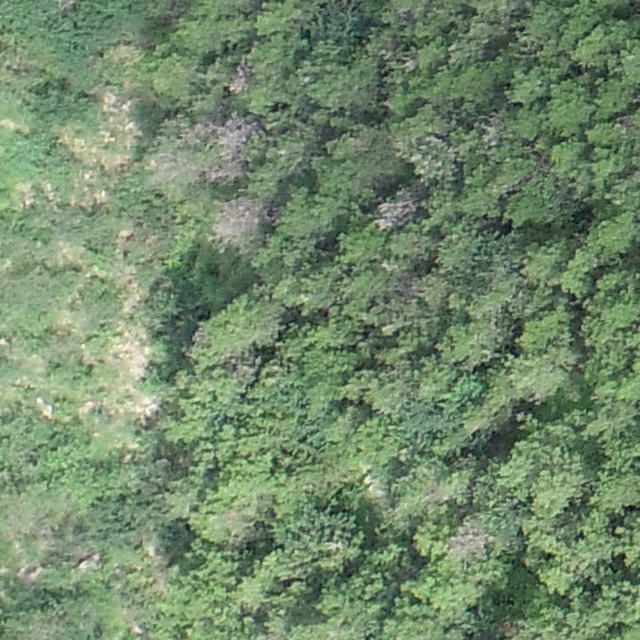unhealthy: (211, 194, 265, 245), (447, 519, 492, 561), (212, 113, 260, 150), (375, 193, 419, 230), (201, 158, 246, 185), (390, 272, 425, 300), (225, 62, 251, 96), (182, 119, 214, 144)
